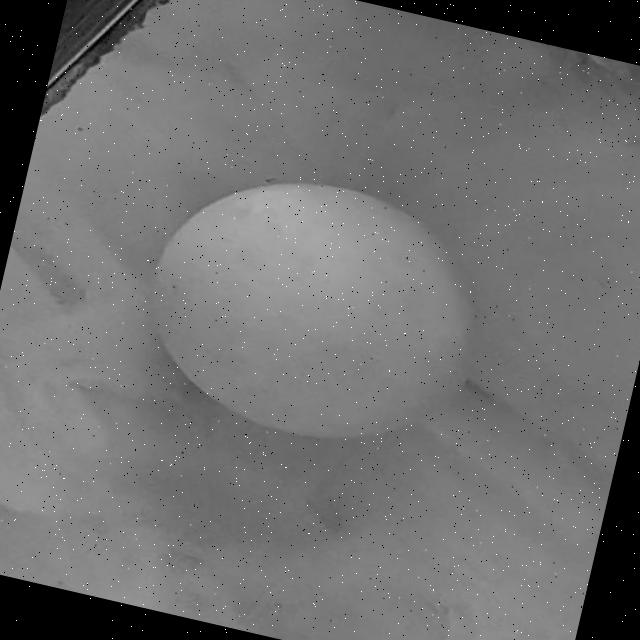ping-pong-ball: (128, 149, 498, 469)
